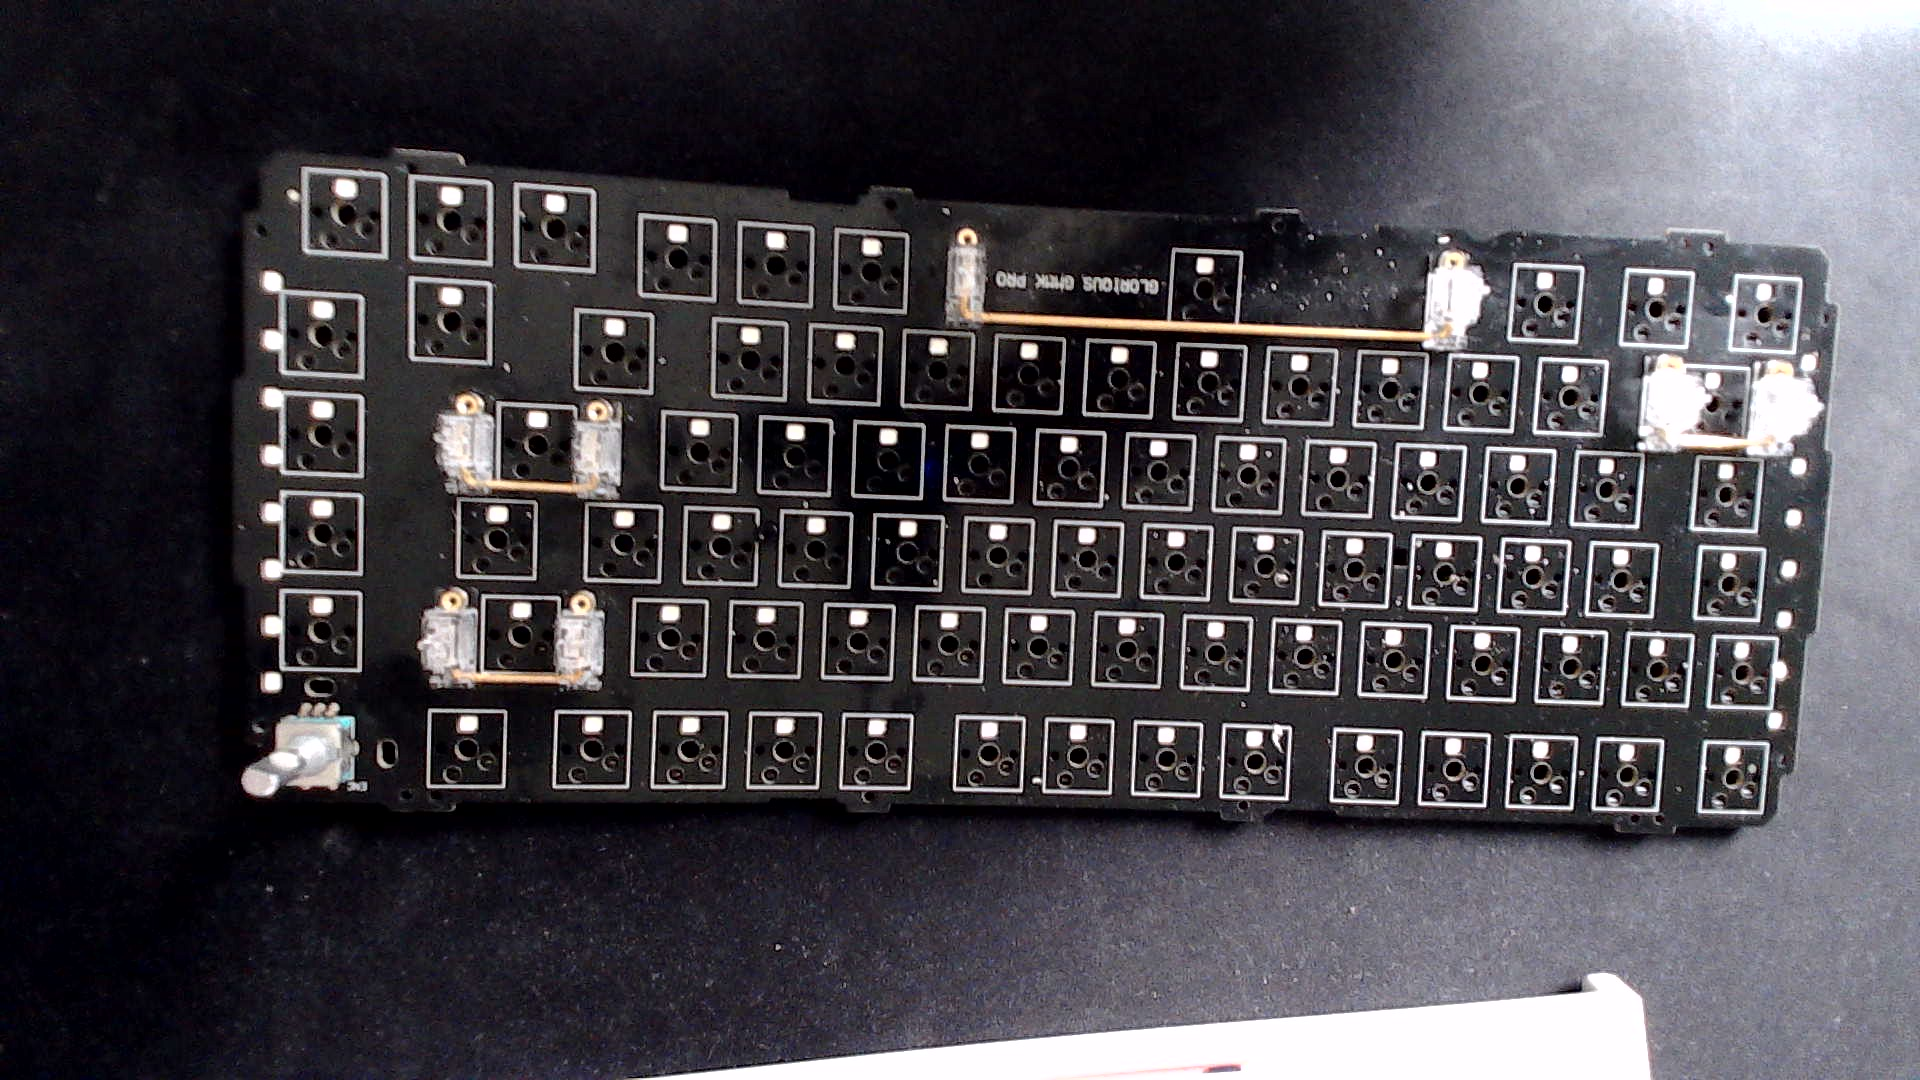pcb: (185, 109, 1866, 897)
